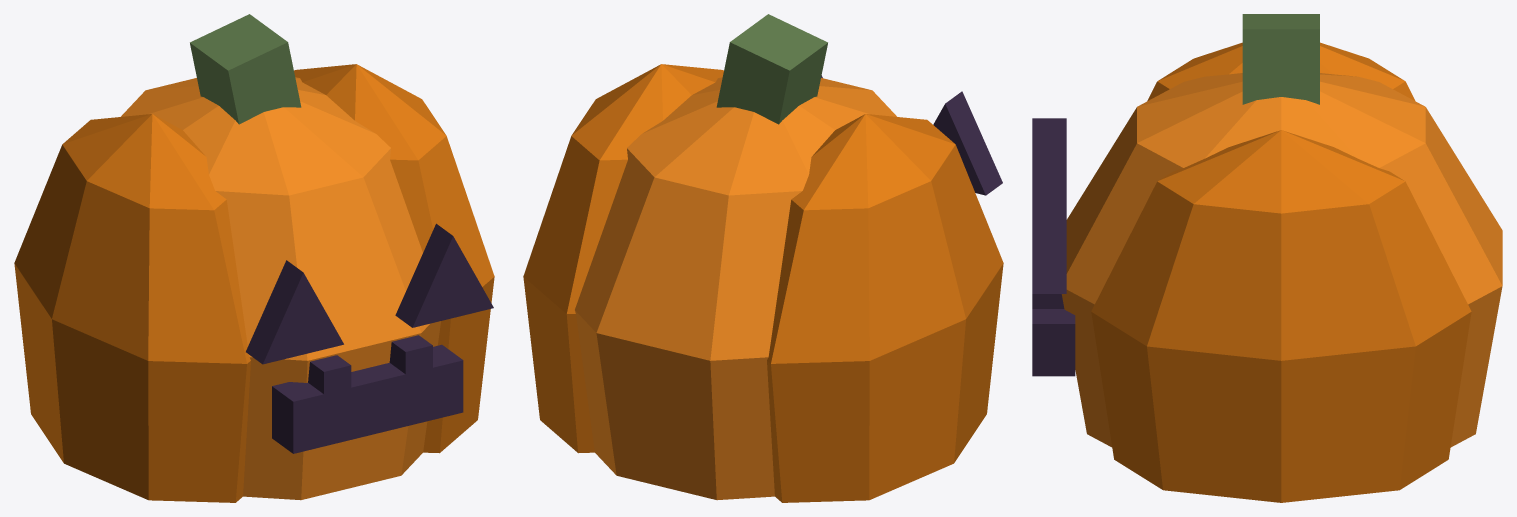
The model's file is env_r4_jack_o_lantern.glb.
3 renders of one model, left to right at view 1: azimuth 30°, elevation 25°; view 2: azimuth 150°, elevation 25°; view 3: azimuth 270°, elevation 25°, orthographic.
Parts seen in each view (by area): view 1: env_r4_jack_o_lantern; view 2: env_r4_jack_o_lantern; view 3: env_r4_jack_o_lantern.
Part boxes in pixels (bbox=[...]): env_r4_jack_o_lantern: bbox=[14, 14, 494, 502]; env_r4_jack_o_lantern: bbox=[523, 14, 1003, 502]; env_r4_jack_o_lantern: bbox=[1032, 14, 1502, 502].
Bounding box in the file's own units: 1.1 × 1 × 1.1.
Materials: 1 (1 with a texture image).
